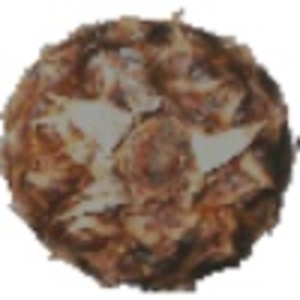abacaxi: (4, 8, 294, 281)
